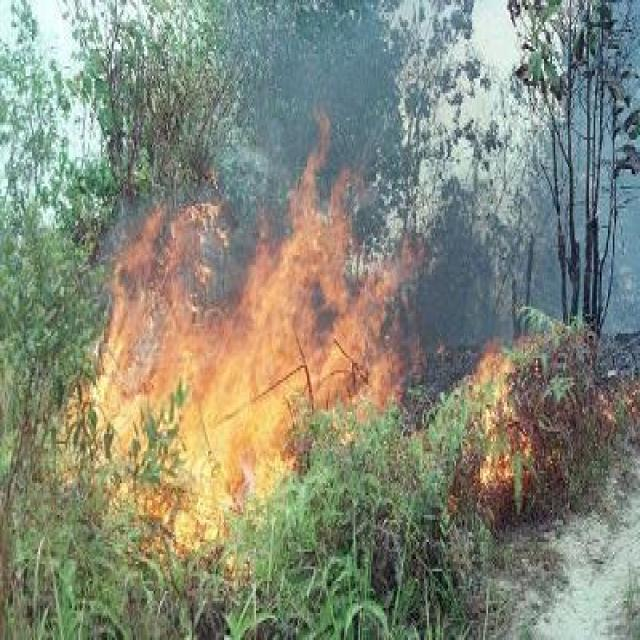fire: (86, 183, 392, 601)
